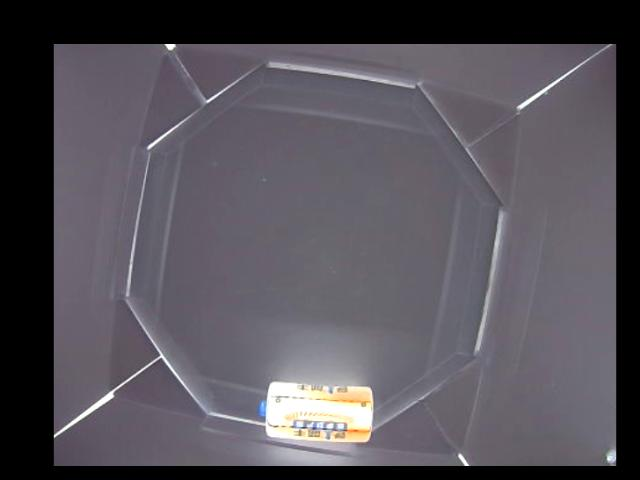Battery: (259, 384, 373, 441)
